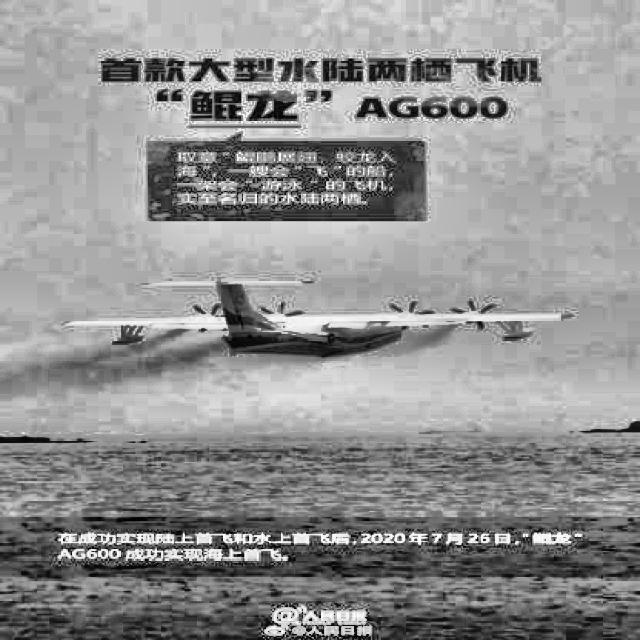AG600: (61, 278, 574, 359)
